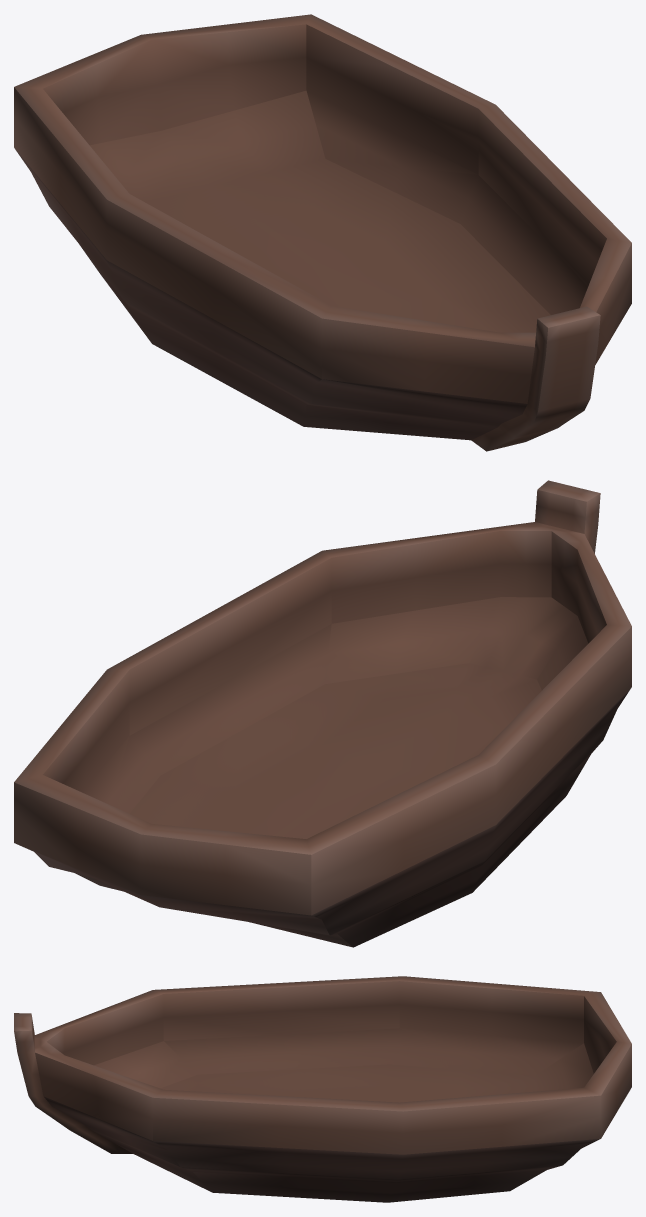
Rendered from bld_boat_rowing.glb.
3 views of the same model, one above another, from view 1: azimuth 30°, elevation 25°; view 2: azimuth 150°, elevation 25°; view 3: azimuth 270°, elevation 25° (orthographic). The views are drawn at different scales.
Visible parts, largest first — view 1: bld_boat_rowing; view 2: bld_boat_rowing; view 3: bld_boat_rowing.
Boxes of the visible parts, box(x1,y1,x2,y2) form: bld_boat_rowing: box(14, 14, 631, 451); bld_boat_rowing: box(14, 480, 631, 947); bld_boat_rowing: box(14, 976, 631, 1202).
Size of the model in its own units: 4.67 by 2.01 by 9.01.
